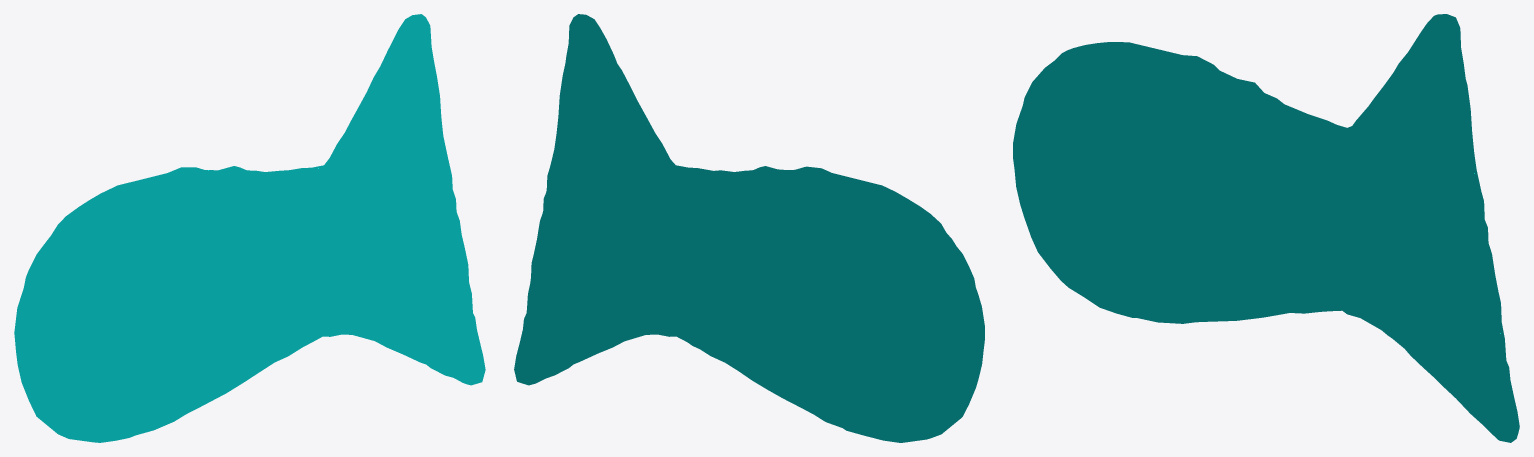
3 renders of one model, left to right at view 1: azimuth 30°, elevation 25°; view 2: azimuth 150°, elevation 25°; view 3: azimuth 330°, elevation 25°, orthographic. The views are drawn at different scales.
Size of the model in its own units: 408 by 318 by 10.07.
